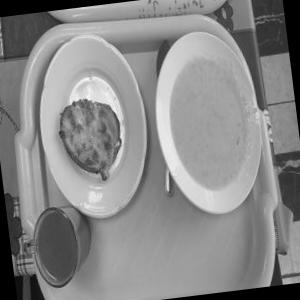cheese_sandwich: (52, 87, 134, 188)
coffee: (22, 196, 102, 292)
porridge: (155, 49, 265, 198)
